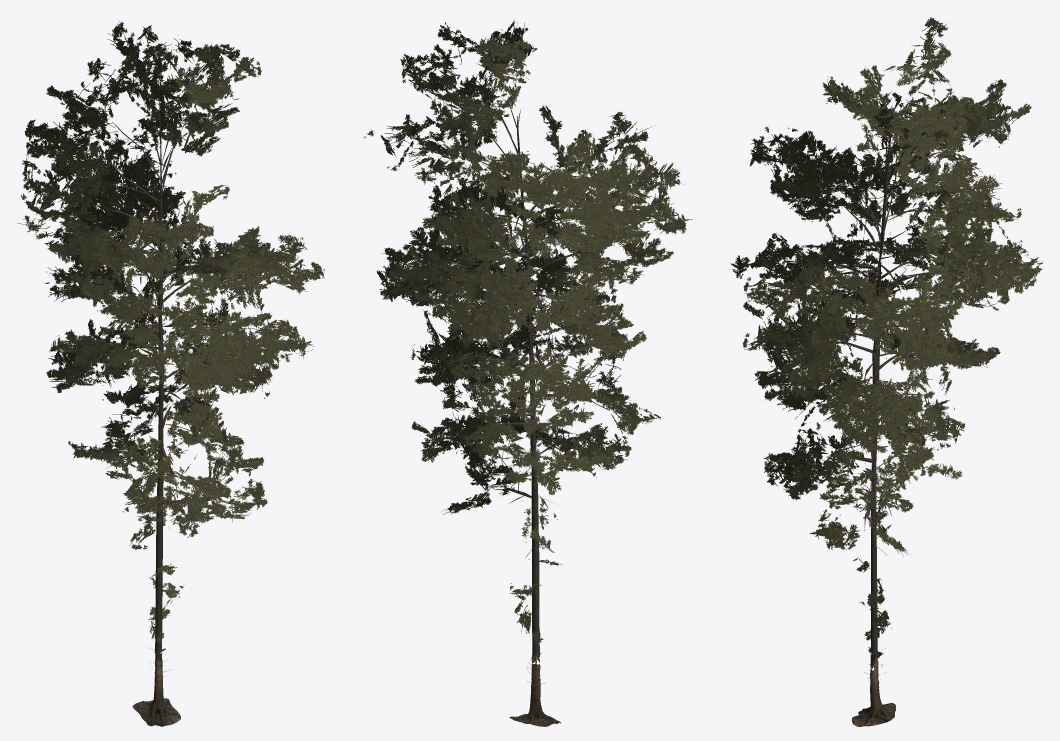
3 views of the same model, side by side, from view 1: azimuth 30°, elevation 25°; view 2: azimuth 150°, elevation 25°; view 3: azimuth 270°, elevation 25° (orthographic). The views are drawn at different scales.
Visible parts, largest first — view 1: pine_tree_01__a_lod1; view 2: pine_tree_01__a_lod1; view 3: pine_tree_01__a_lod1.
Part boxes in pixels (left/top/right/bottom): pine_tree_01__a_lod1: left=17, top=21, right=324, bottom=726; pine_tree_01__a_lod1: left=363, top=20, right=692, bottom=726; pine_tree_01__a_lod1: left=730, top=17, right=1042, bottom=726.
Bounding box in the file's own units: 8.26 × 20.43 × 8.4.
3 materials, 3 textured.
